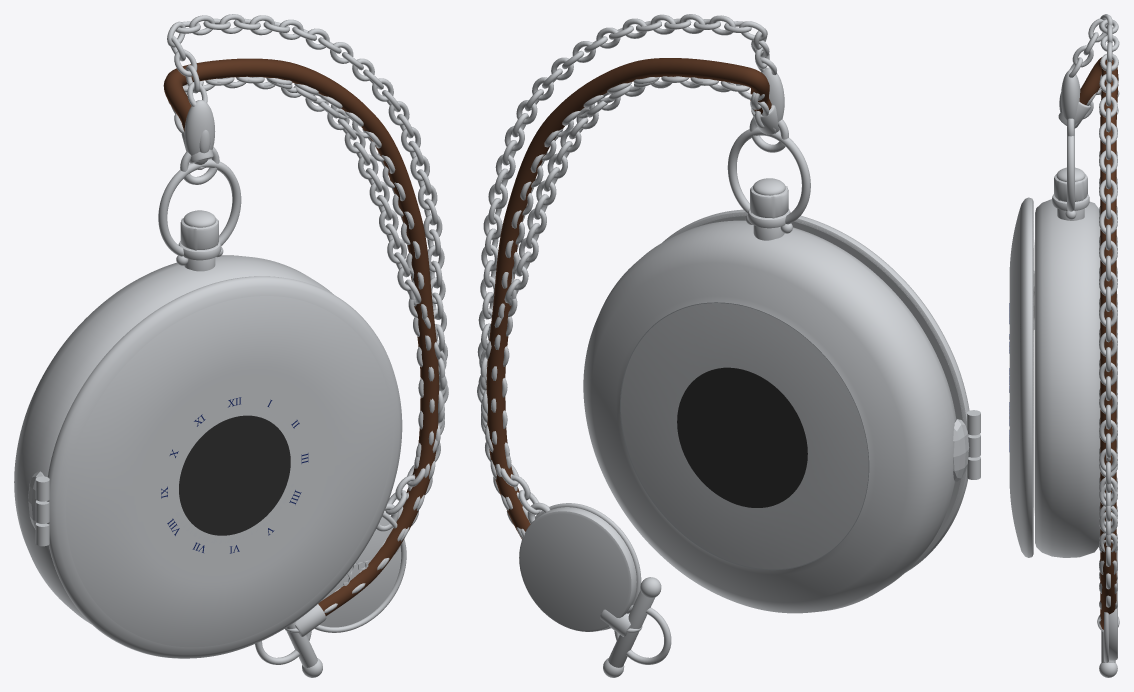
The model's file is pocket-round.glb.
The picture shows the model from 3 angles, left to right: view 1: azimuth 30°, elevation 25°; view 2: azimuth 150°, elevation 25°; view 3: azimuth 270°, elevation 25°; orthographic projection. The views are drawn at different scales.
Visible parts, largest first — view 1: lid_half, lid_hunter, case, chain_leather, chain_carabiner, engrave_lid, chain_chatelaine, chain_classic, pendant, bow, hinge; view 2: case, case_back, chain_chatelaine, engrave_back, chain_leather, chain_carabiner, lid_hunter, chain_classic, pendant, bow, hinge, movement; view 3: case, chain_carabiner, lid_hunter, chain_leather, lid_half, chain_chatelaine, pendant, chain_classic, bow, bezel, crystal.
Boxes of the visible parts, box(x1,y1,x2,y2) form: lid_half: box(65, 296, 392, 647); lid_hunter: box(35, 276, 402, 658); case: box(14, 255, 333, 624); chain_leather: box(163, 58, 439, 636); chain_carabiner: box(167, 14, 447, 664); engrave_lid: box(179, 415, 290, 535); chain_chatelaine: box(178, 76, 448, 632); chain_classic: box(168, 77, 434, 677); pendant: box(176, 210, 223, 271); bow: box(158, 159, 241, 256); hinge: box(28, 471, 49, 546); case: box(583, 220, 956, 613); case_back: box(621, 303, 868, 569); chain_chatelaine: box(477, 76, 774, 631); engrave_back: box(677, 367, 807, 507); chain_leather: box(486, 58, 788, 636); chain_carabiner: box(477, 14, 784, 664); lid_hunter: box(662, 209, 980, 572); chain_classic: box(491, 76, 775, 677); pendant: box(745, 178, 792, 240); bow: box(727, 127, 810, 224); hinge: box(953, 410, 980, 481); movement: box(620, 302, 869, 570); case: box(1035, 199, 1100, 557); chain_carabiner: box(1059, 14, 1119, 625); lid_hunter: box(1019, 197, 1033, 557); chain_leather: box(1058, 57, 1119, 631); lid_half: box(1009, 199, 1033, 554); chain_chatelaine: box(1074, 75, 1118, 662); pendant: box(1052, 167, 1089, 220); chain_classic: box(1074, 74, 1119, 677); bow: box(1067, 127, 1074, 211); bezel: box(1035, 212, 1035, 542); crystal: box(1034, 242, 1034, 513).
Bounding box in the file's own units: 64.23 × 92.38 × 15.29.
